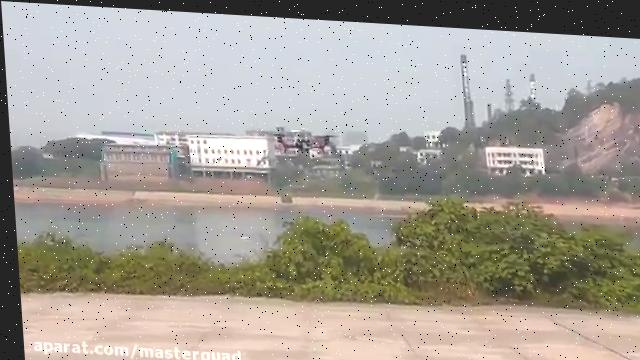drone: (267, 119, 338, 152)
